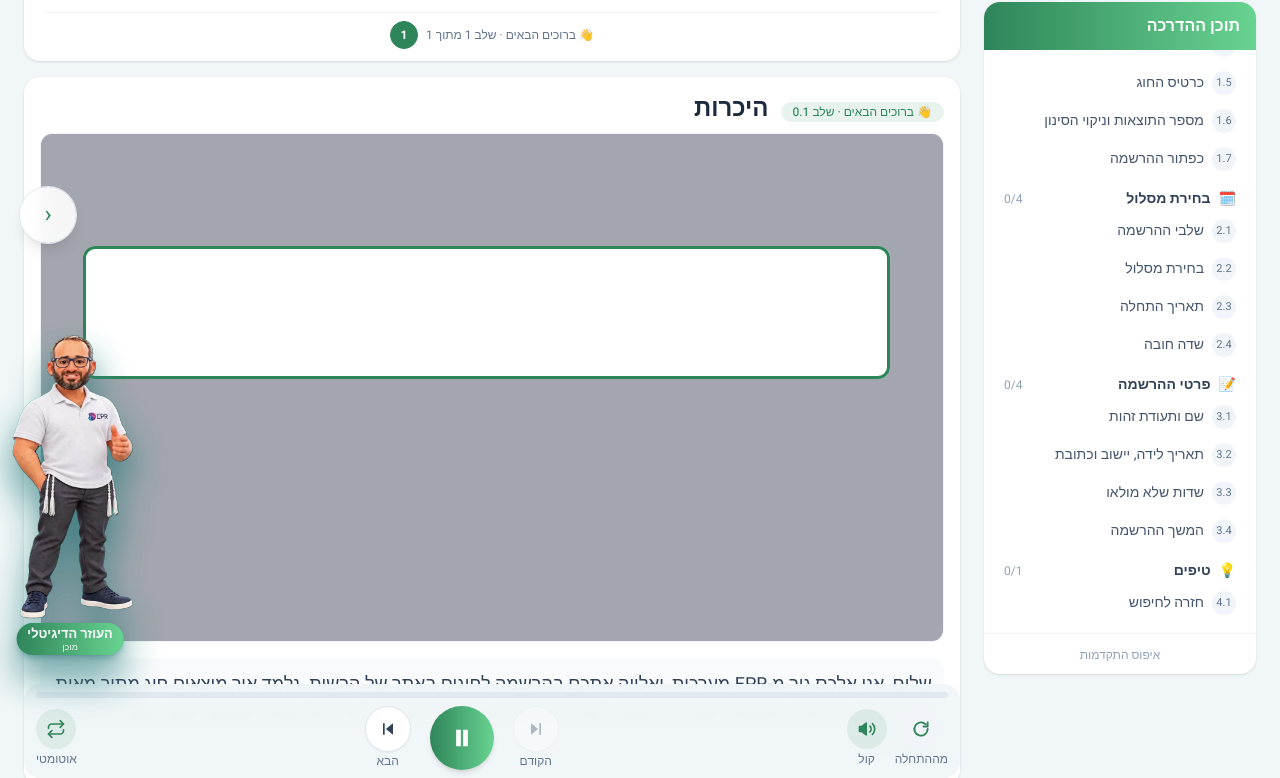
it: App › navigates to step 3.2 from the nav and marks it current
The image size is (1280, 778).
(page scrolled)
Click the button "3.2 תאריך לידה, יישוב וכתובת": {"x": 1120, "y": 455} [996,437,1244,473]
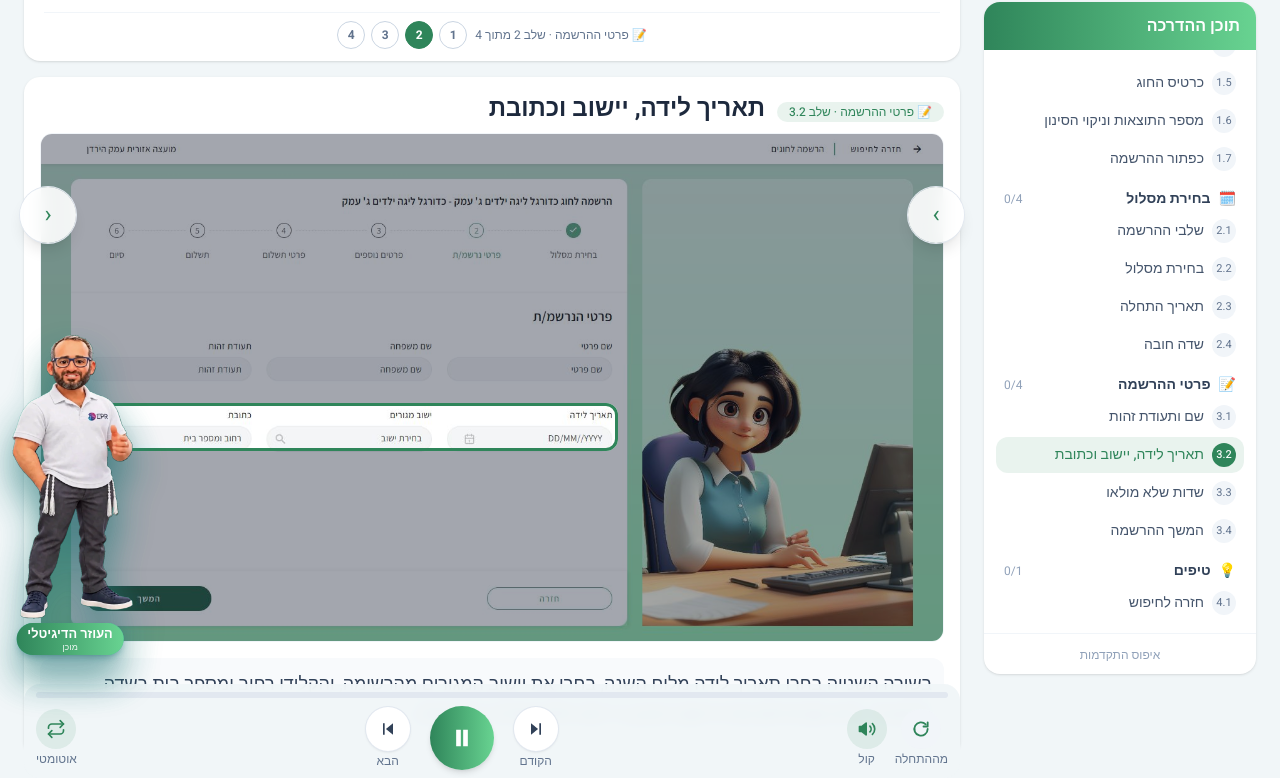
Result: the heading reads "תאריך לידה, יישוב וכתובת" at [489,91,765,126]
